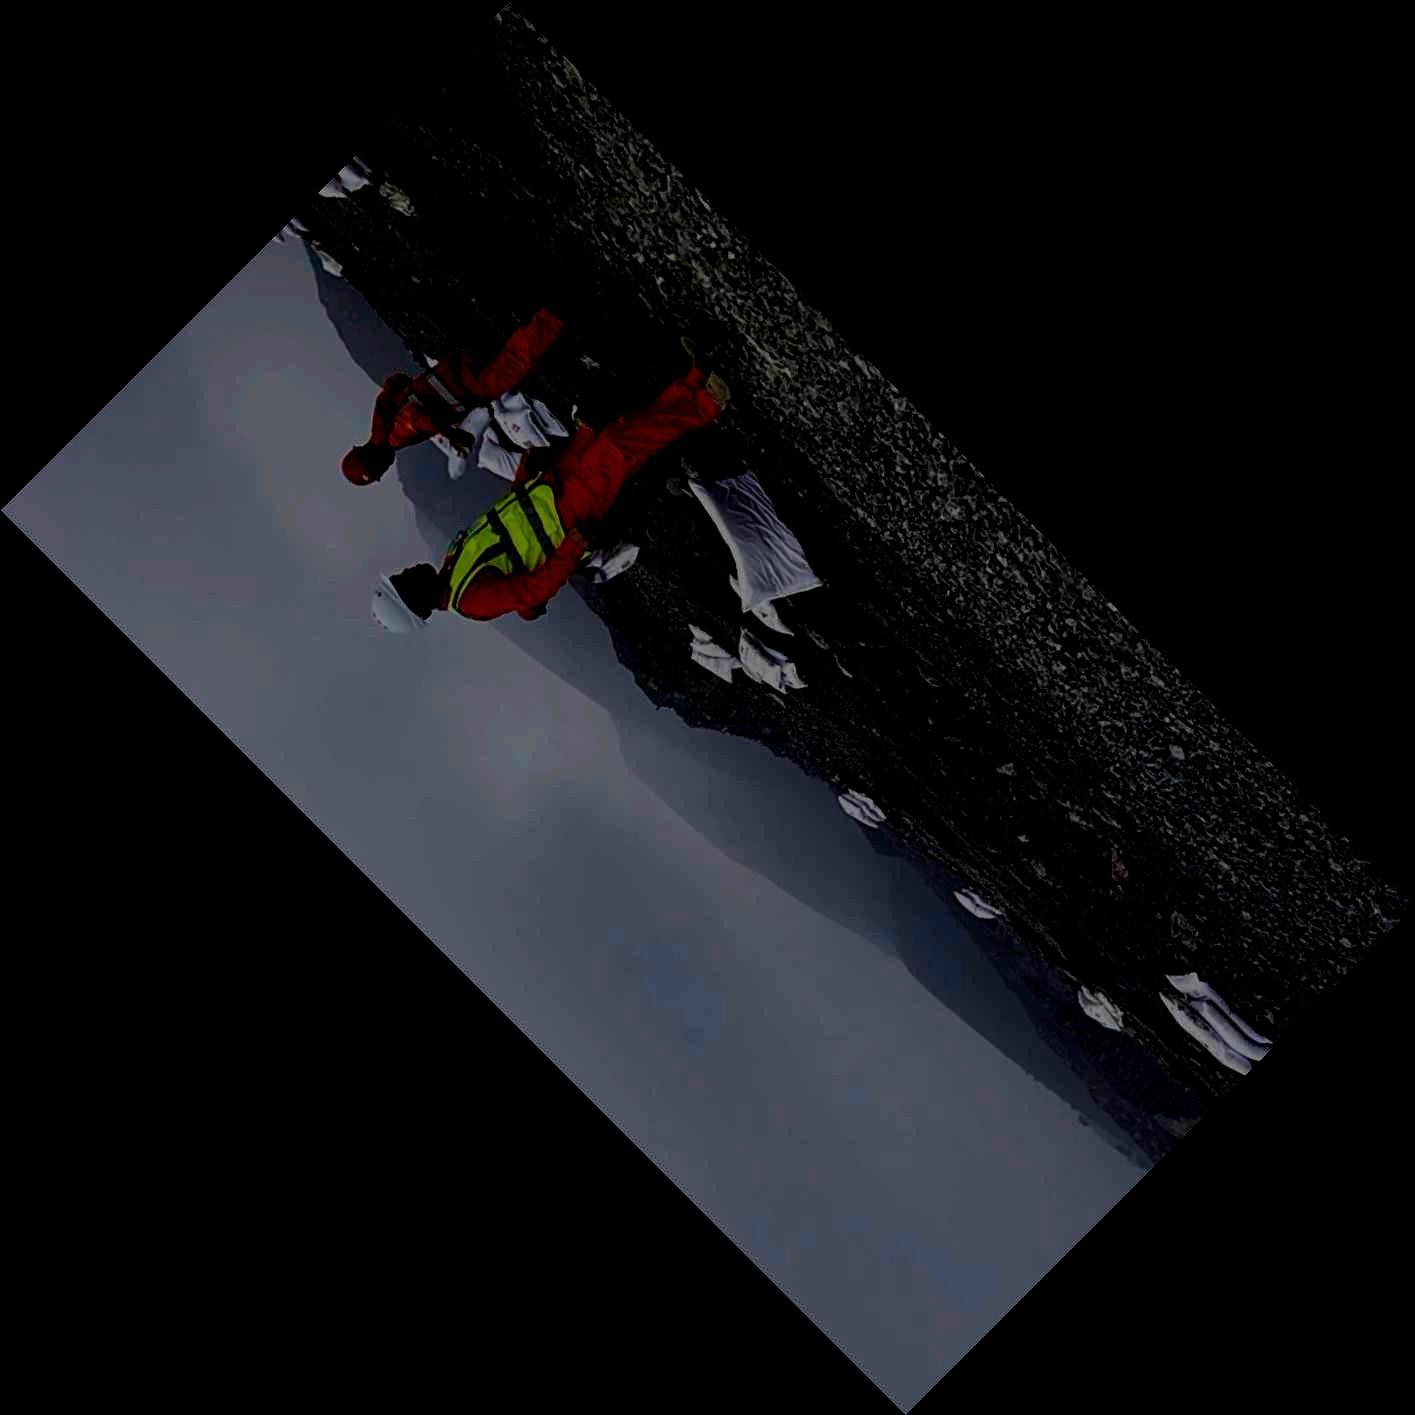helmet: (369, 562, 438, 638), (339, 439, 397, 487)
